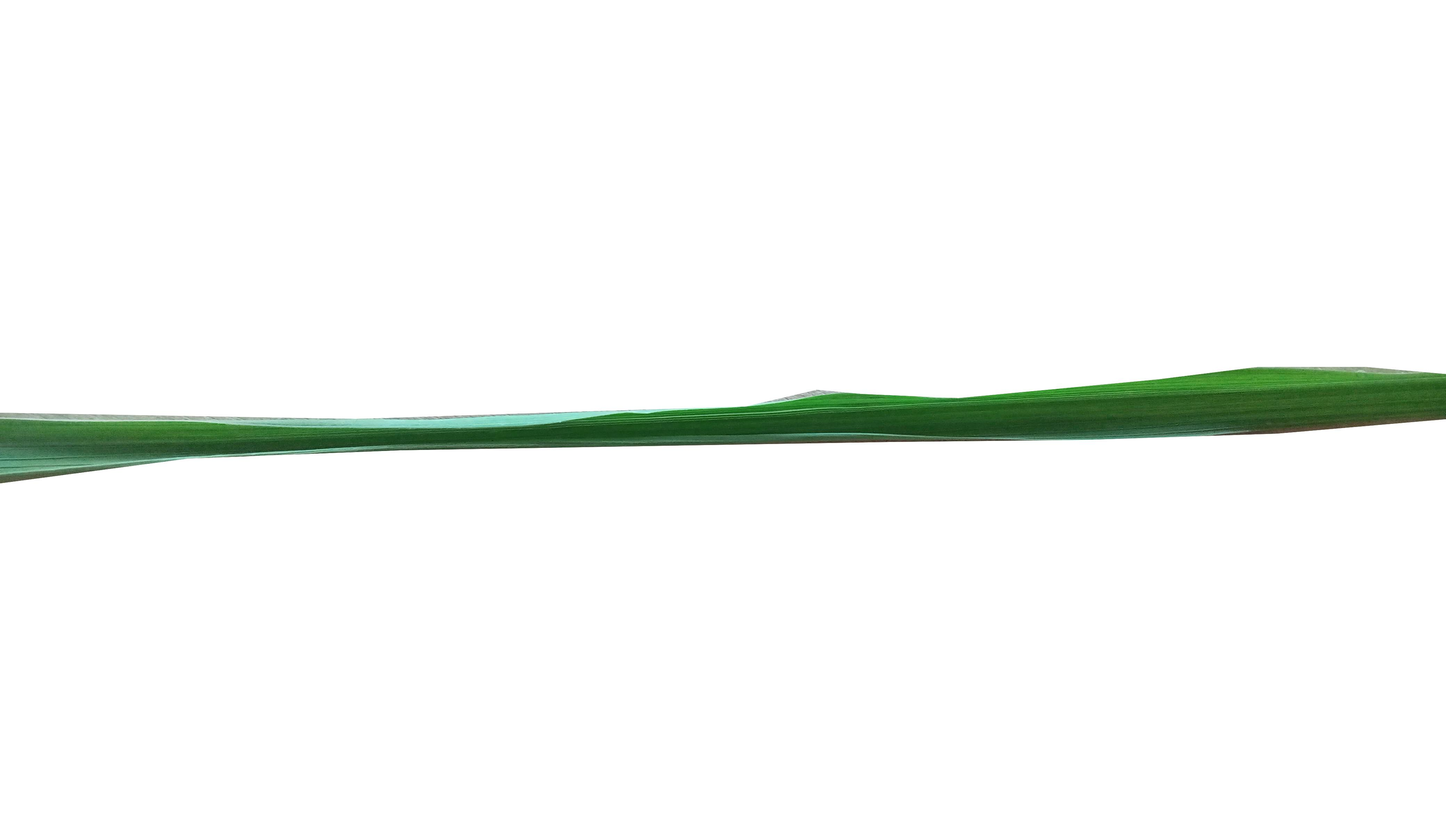Healthy: (0, 369, 1446, 485)
